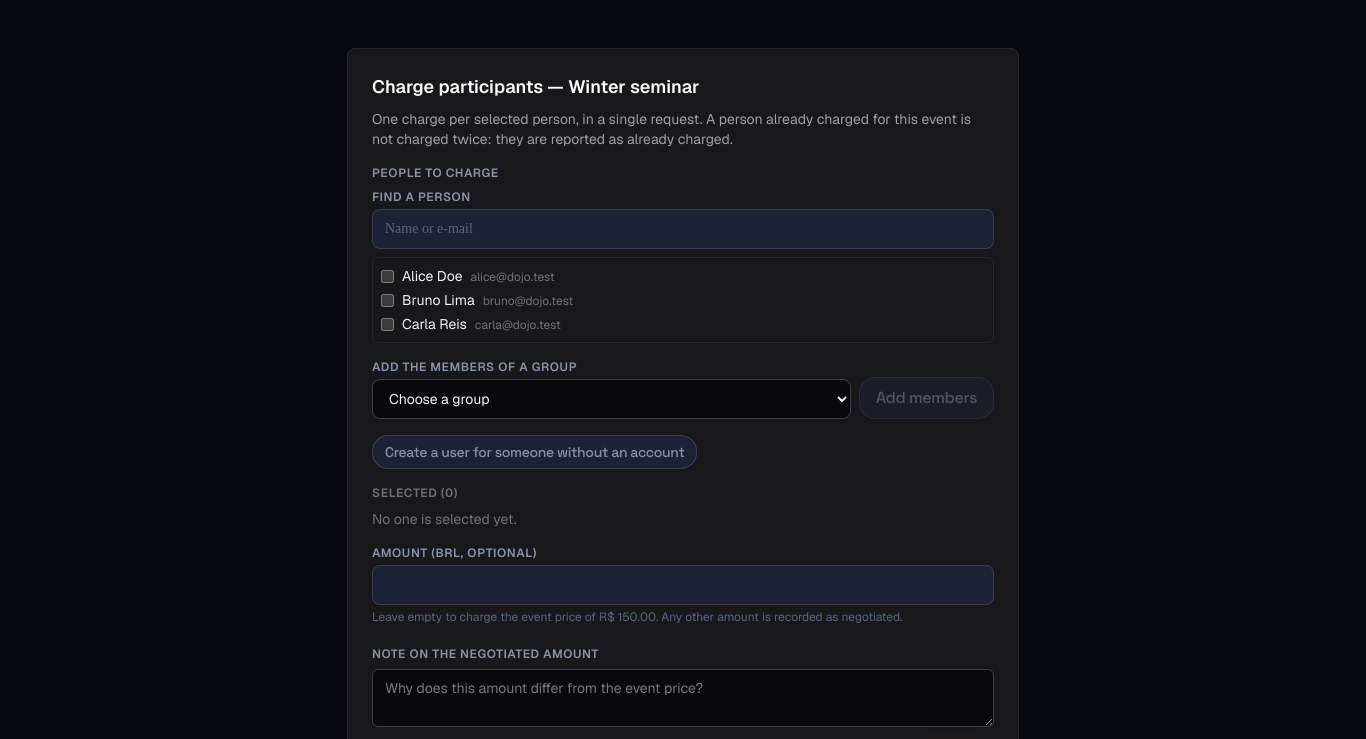
Test: ChargeDialog › creates a user for a lead and selects them
Click the button "Create a user for someone without an account". click: (535, 452)
box: [372, 435, 698, 469]
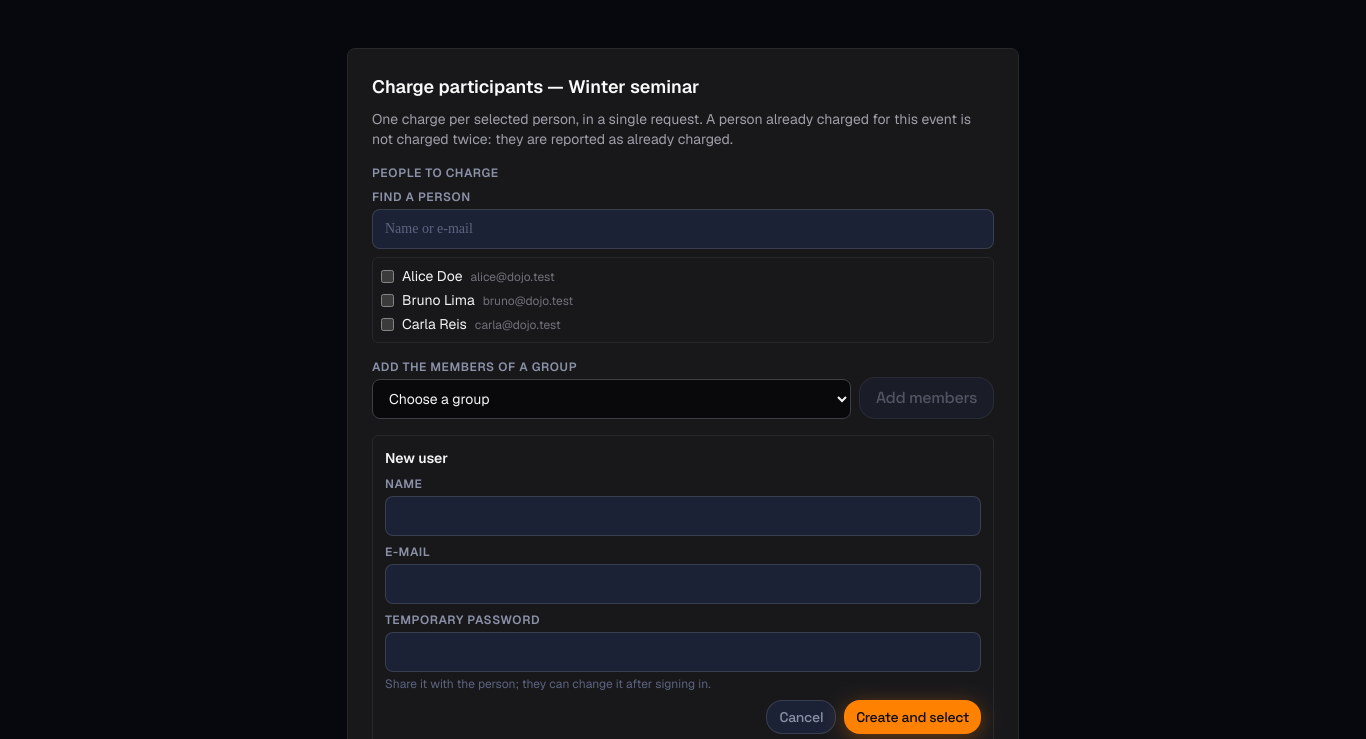
Type "New Lead" into the field labelled "Name". click: (683, 516)
box: [385, 496, 981, 536]
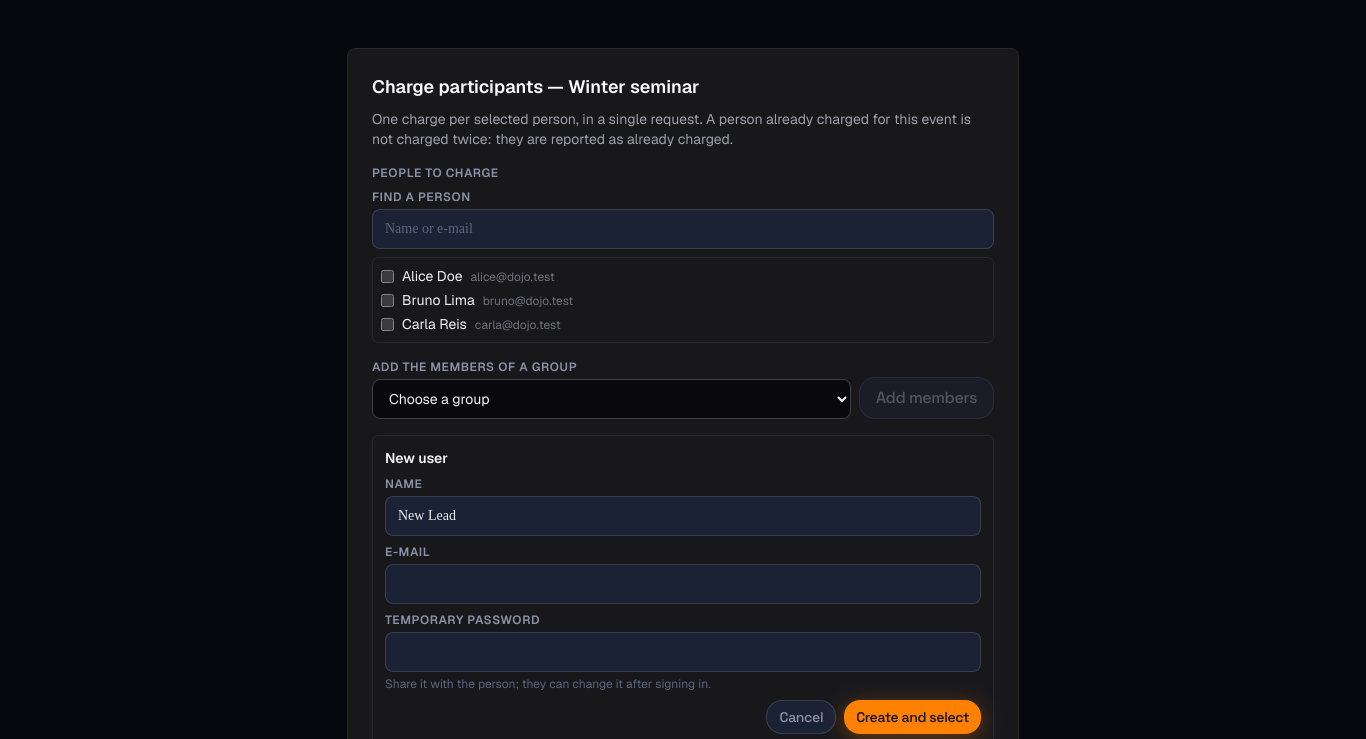
Type "lead@dojo.test" into the field labelled "E-mail". click: (683, 584)
box: [385, 564, 981, 604]
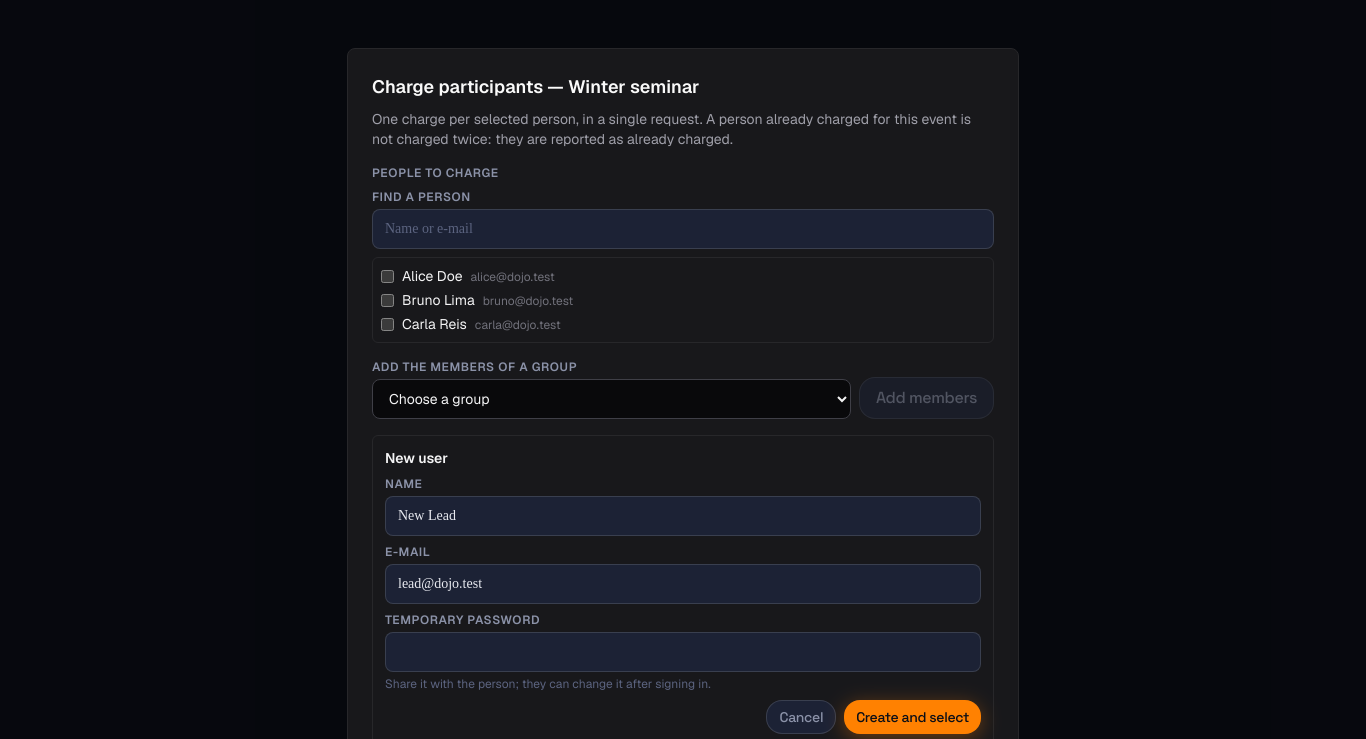
Type "Temp1234!" into the password field labelled "Temporary password". click: (683, 652)
box: [385, 632, 981, 672]
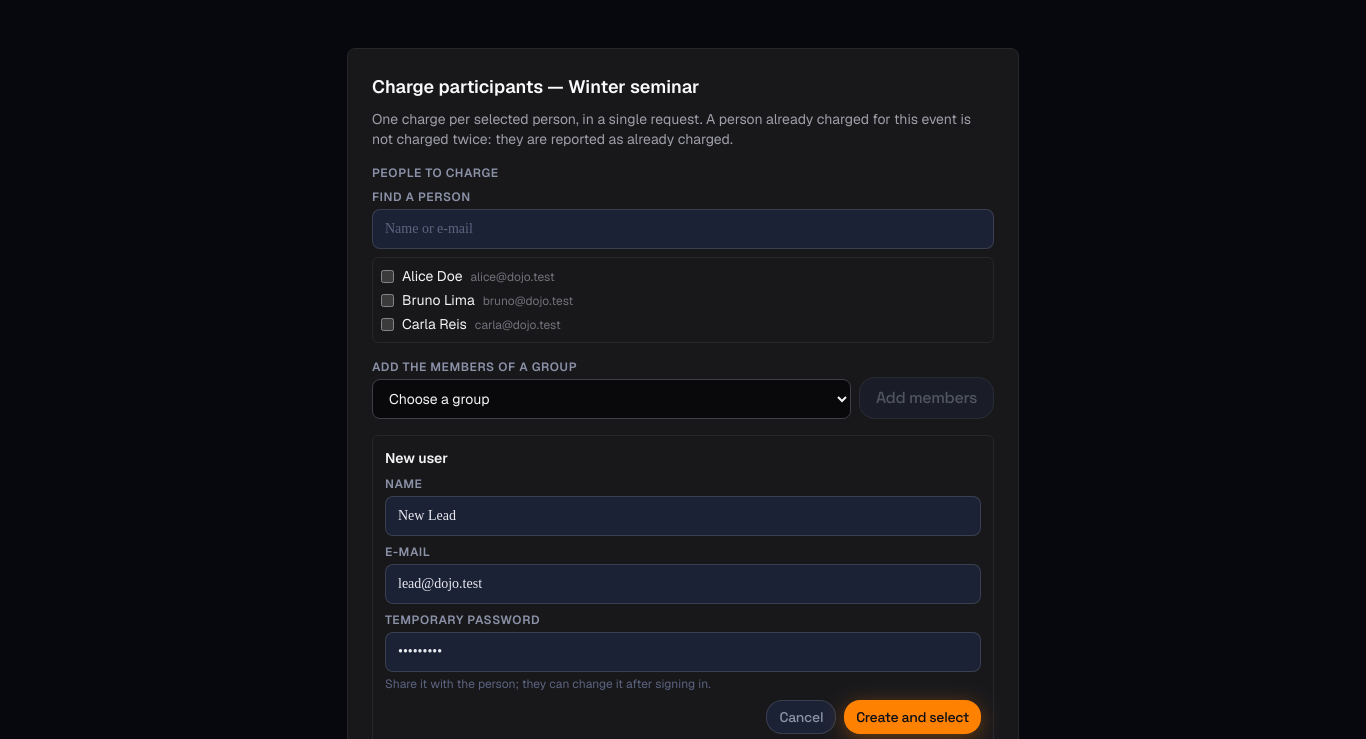
Click the button "Create and select". click: (913, 717)
box: [844, 700, 981, 734]
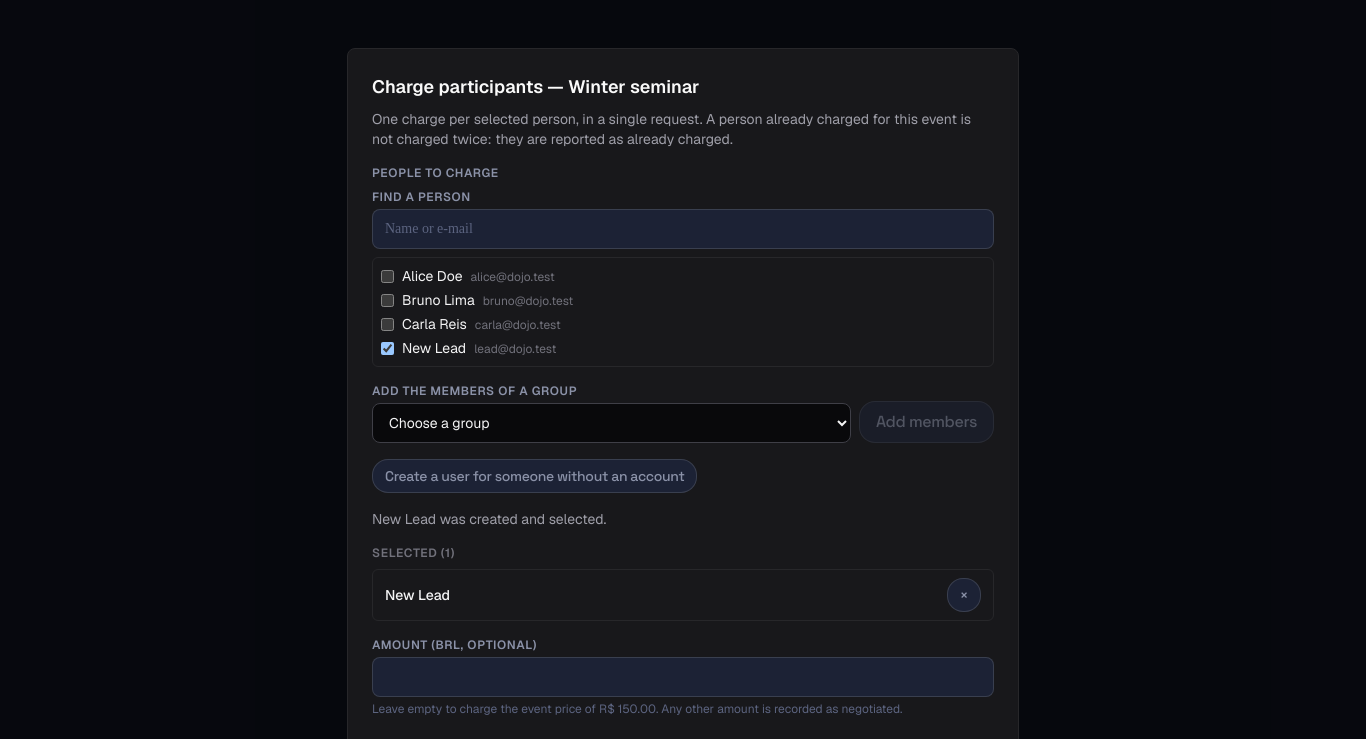
Expected: the list item with test id "selected-u-new" is shown, [372, 569, 994, 621]
